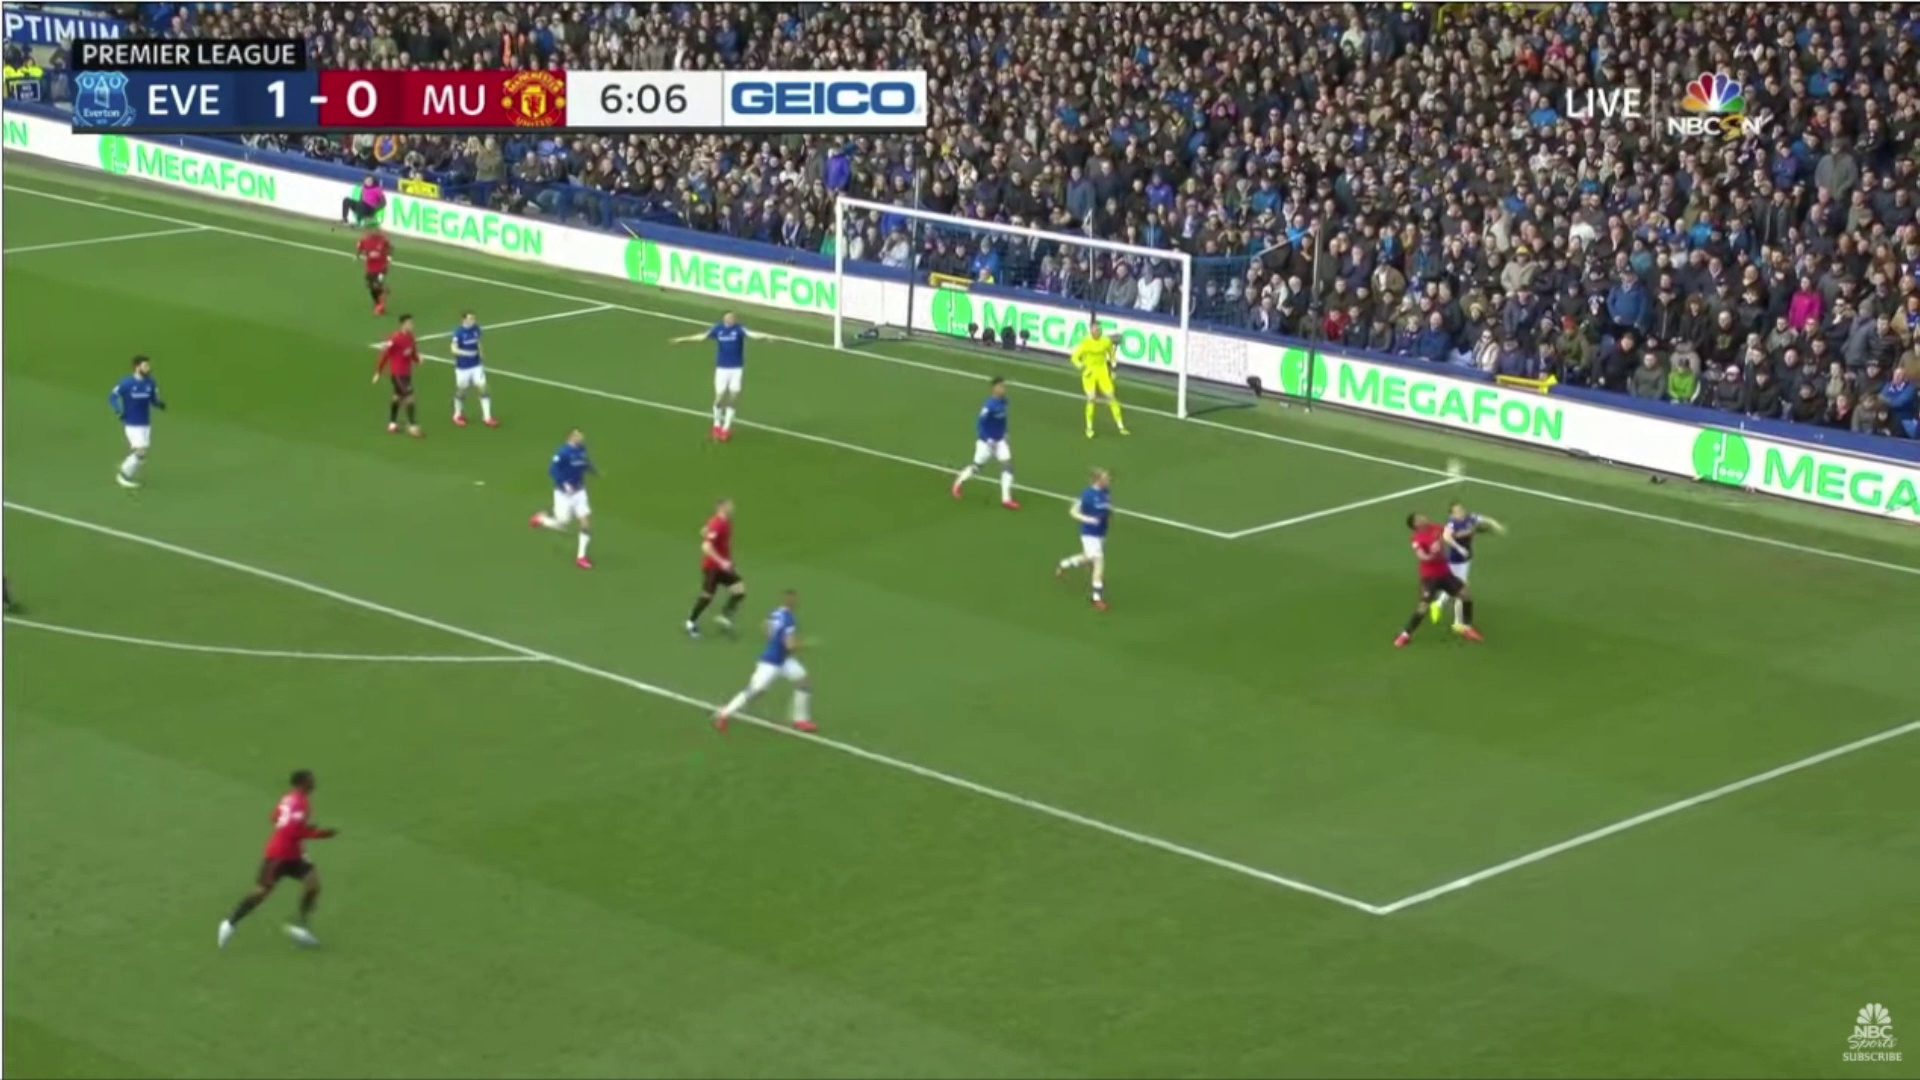ball: (1435, 452, 1475, 485)
player: (187, 742, 385, 963), (710, 585, 843, 750), (675, 302, 804, 458), (516, 398, 620, 571), (1043, 465, 1152, 621), (943, 362, 1031, 535), (91, 333, 181, 498), (1433, 490, 1514, 644), (424, 287, 504, 440), (1056, 300, 1135, 450), (1391, 508, 1470, 656), (681, 492, 752, 644), (362, 300, 429, 458), (349, 204, 402, 317)
